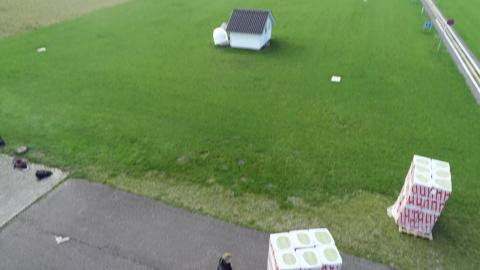RockwoolPallet: (268, 225, 342, 268)
